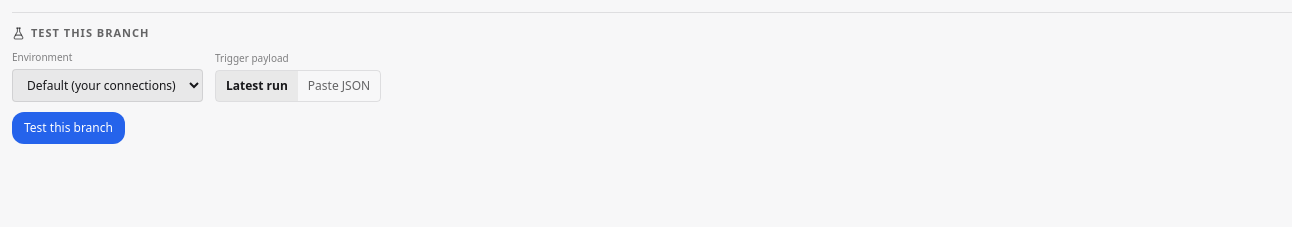
Scenario: ReviewTestPanel — what the test would refuse, before it runs › names an environment whose account can't run a step (wrong_app_slot), sends it to Integrations, and holds the run
Expected: the button "Test this branch" is shown, [12,112,125,144]
Select "production" in the dropdown. click: (108, 85)
box: [12,68,203,102]
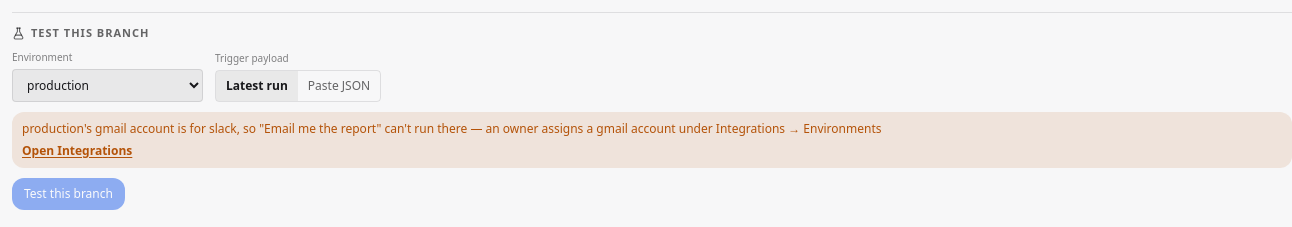
Expected: the message with test id "test-readiness" shows "production's gmail account is for slack, so \"Email me the report\" can't run there — an owner assigns a gmail account under Integrations → Environments", [22,120,882,136]
Expected: the button "Test this branch" is disabled, [12,178,125,210]
